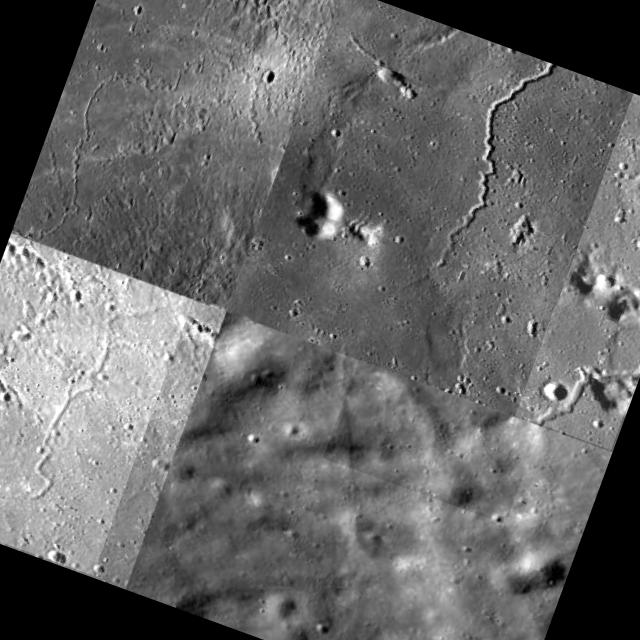rille: (12, 3, 310, 310), (0, 233, 193, 576), (434, 49, 634, 306), (514, 93, 640, 450), (324, 361, 542, 525)
